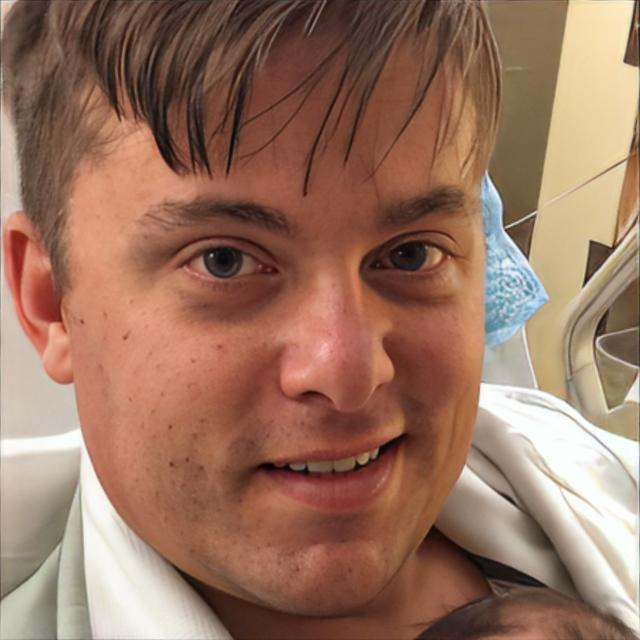happy: (78, 42, 486, 618)
